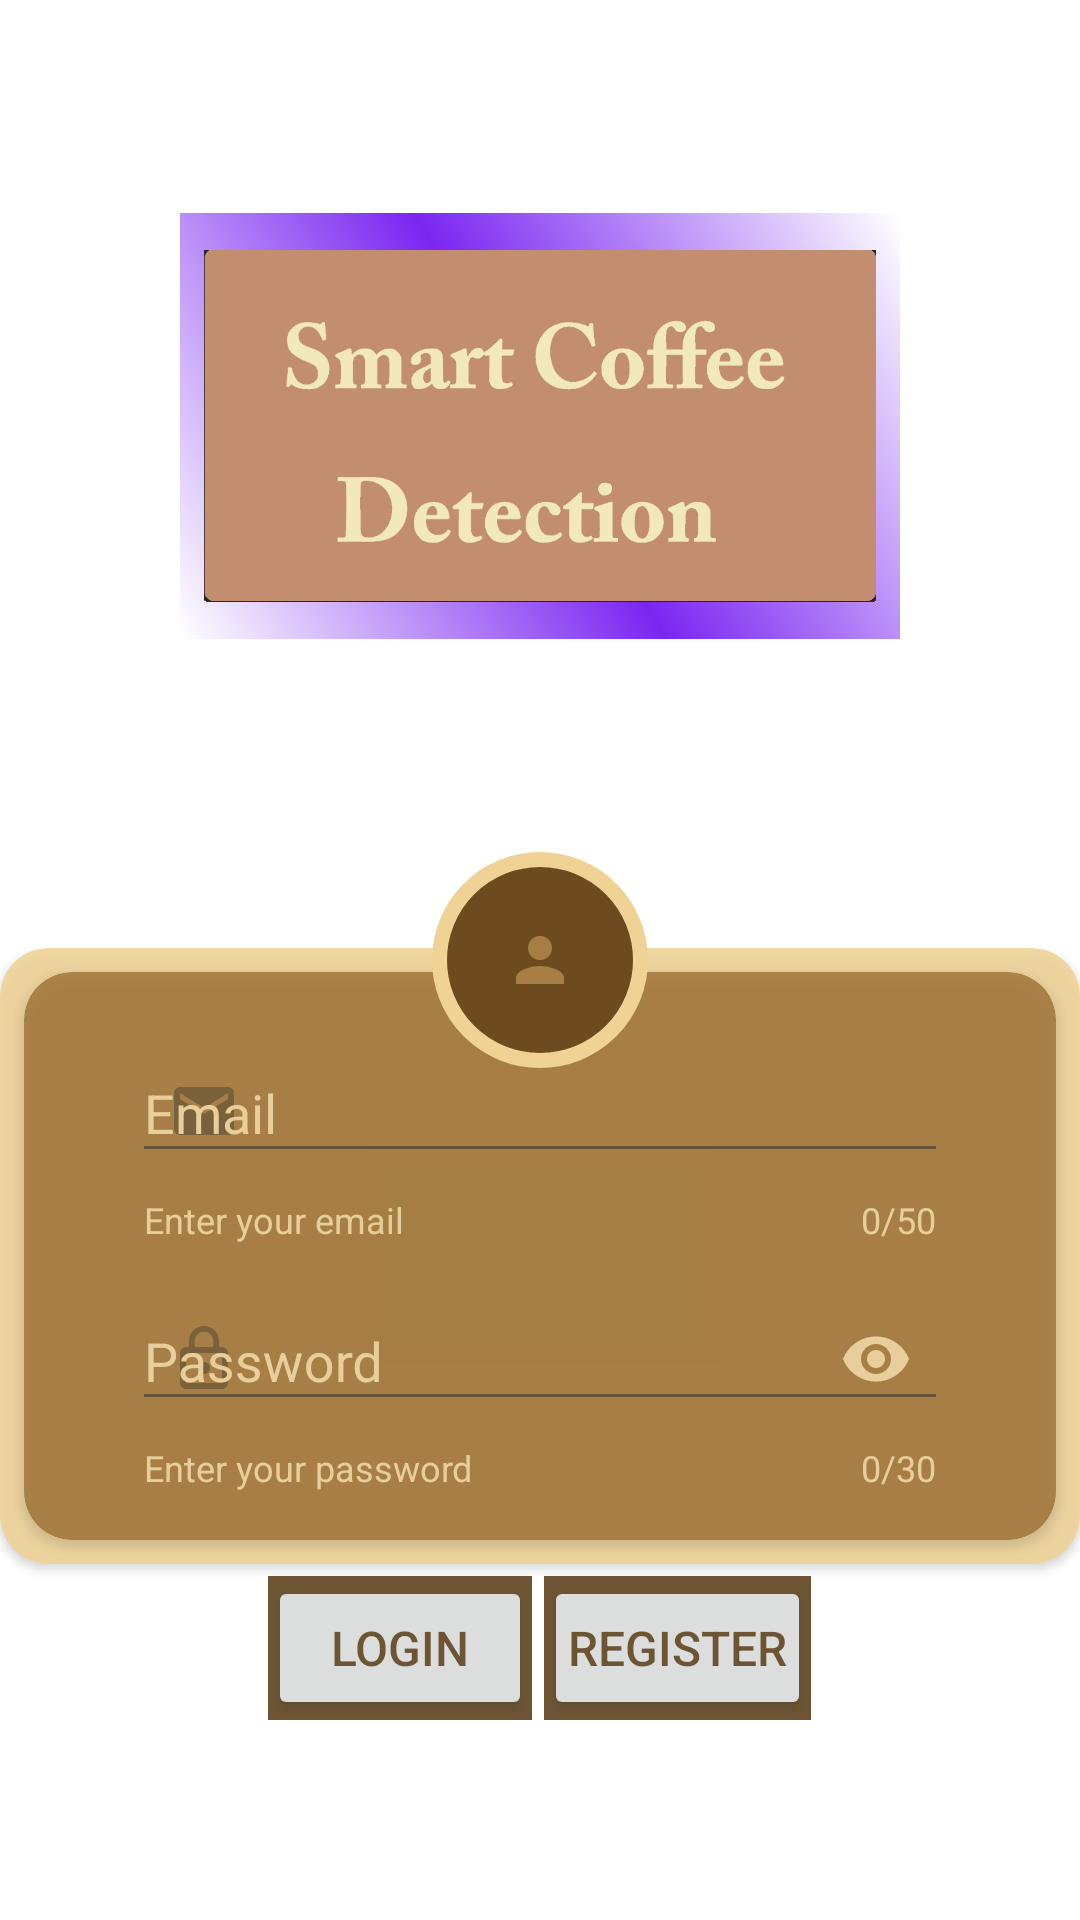

Named icons in this screenshot (1080 x 1920) and their centers, (x,y):
User Icon: (540,960)
